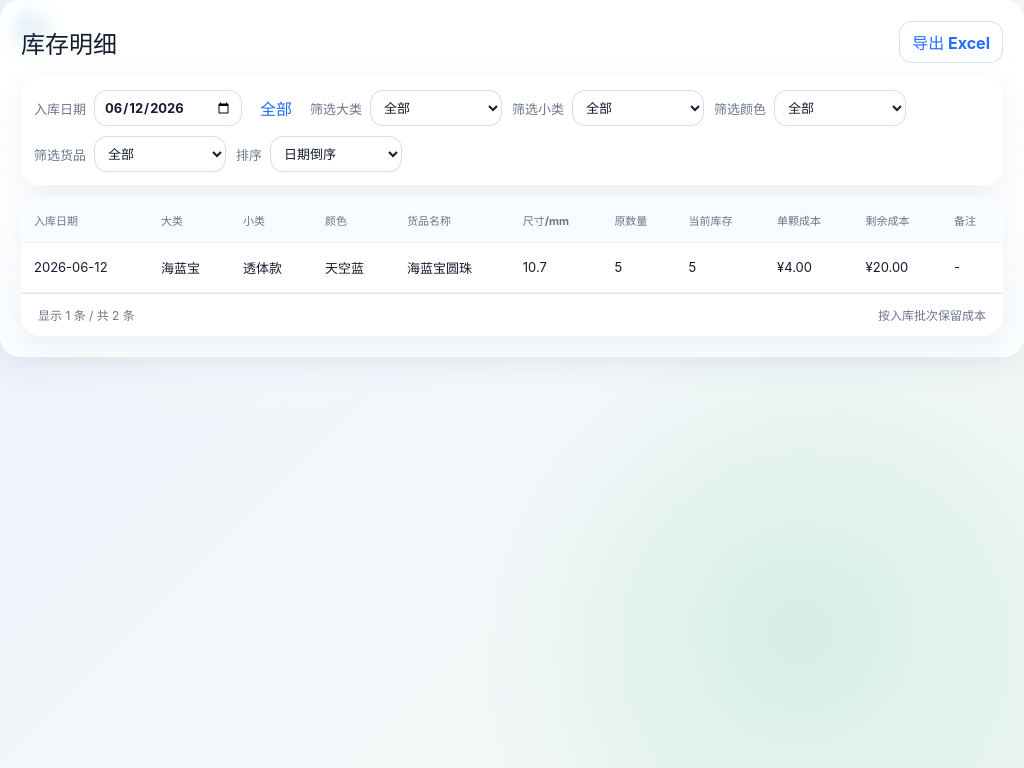
InventoryPage › filters stock rows by date and catalog fields
The image size is (1024, 768).
Expected: the table shows "海蓝宝圆珠", [407,260,472,276]
Expected: the table does not show "白水晶圆珠", [22,242,1002,292]
Type "2026-06-11" into the date field labelled "入库日期" at (168, 108), box [94,90,242,126]
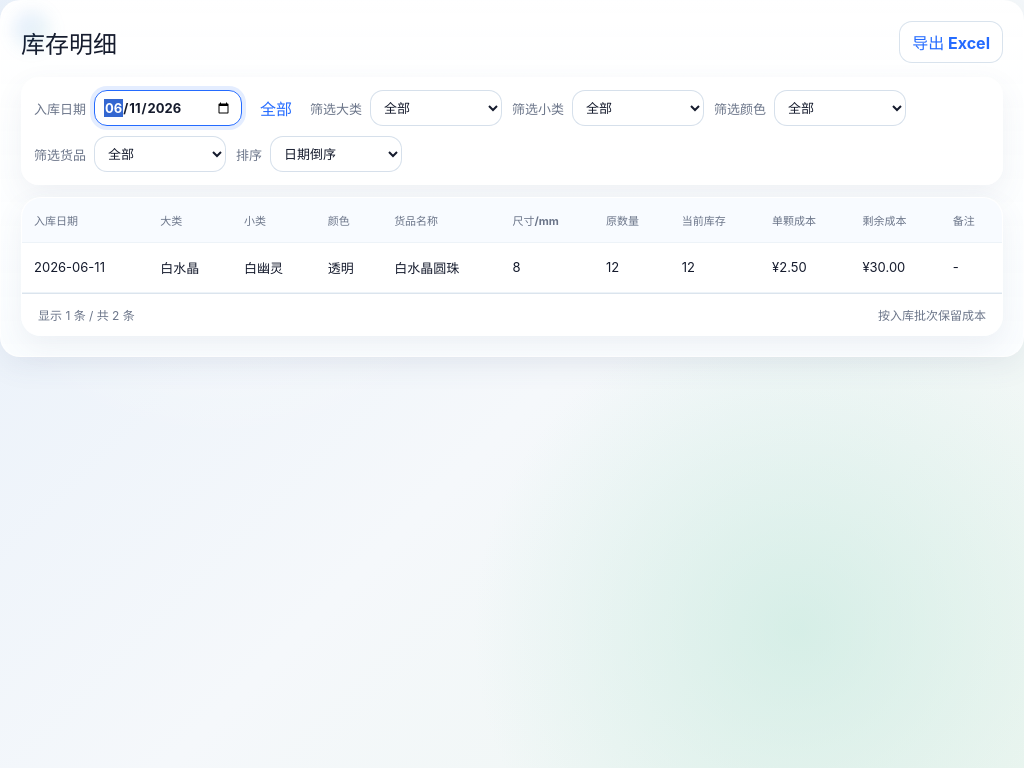
Expected: the table shows "白水晶圆珠", [394,260,459,276]
Expected: the table no longer shows "海蓝宝圆珠", [22,242,1002,292]
Clear the date field labelled "入库日期" at (168, 108), box [94,90,242,126]
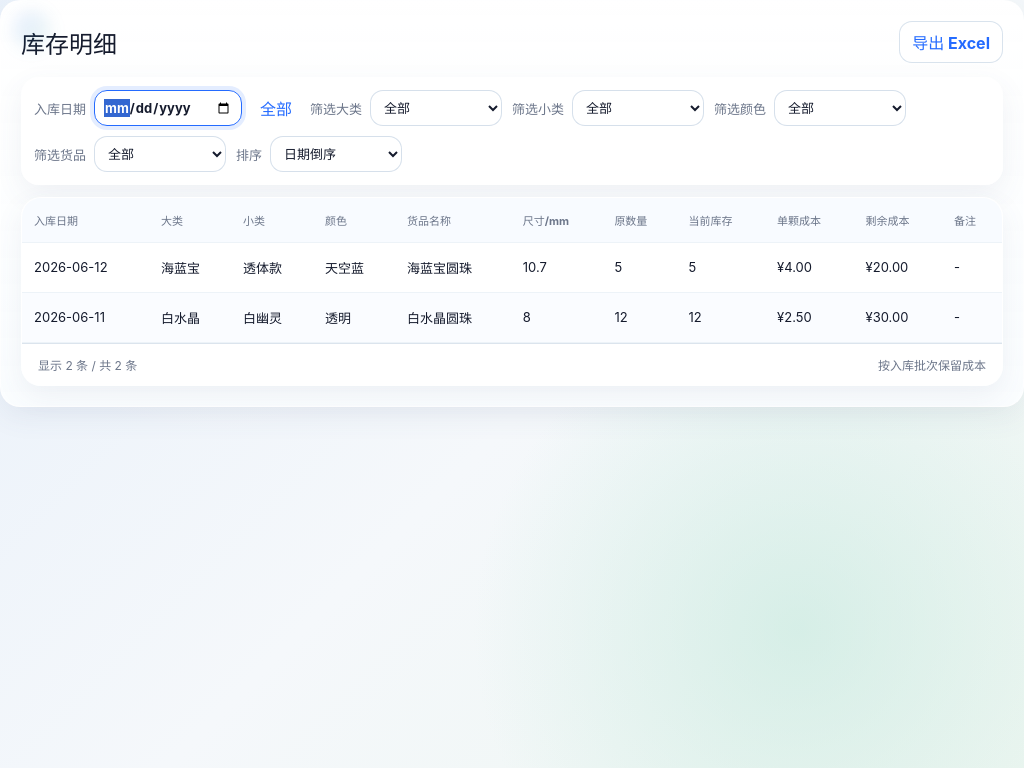
Select "海蓝宝" in the dropdown labelled "筛选大类" at (436, 108), box [370,90,502,126]
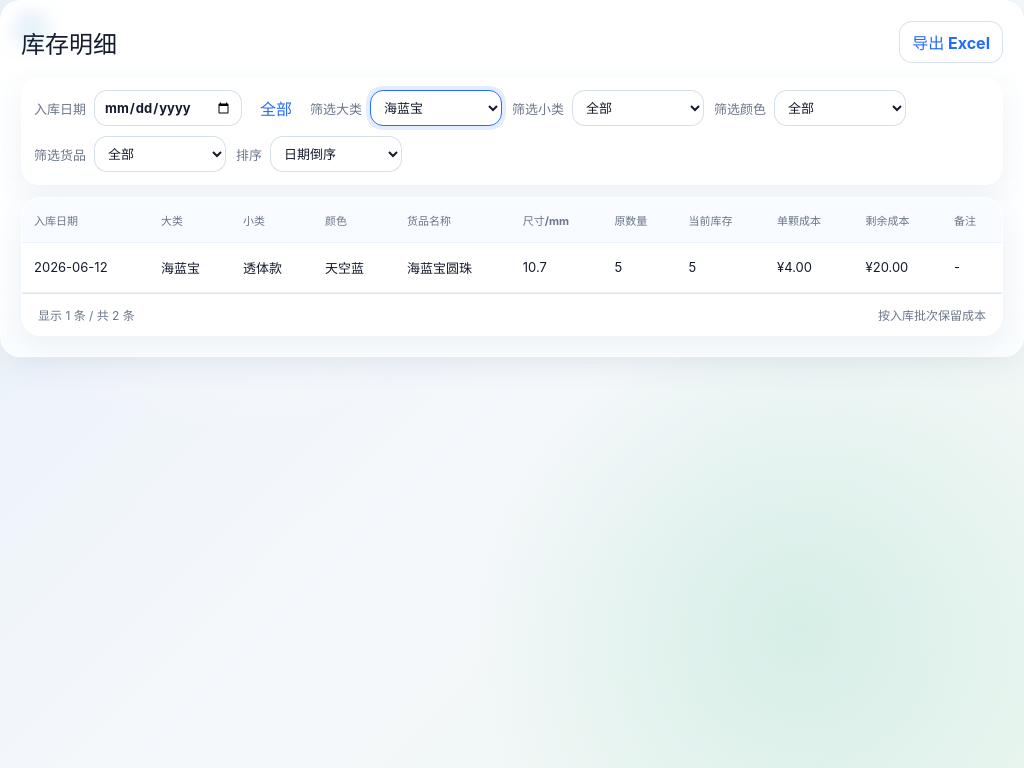
Expected: the table does not show "白水晶圆珠", [22,242,1002,292]
Expected: the table shows "海蓝宝圆珠", [407,260,472,276]
Select "全部" in the dropdown labelled "筛选大类" at (436, 108), box [370,90,502,126]
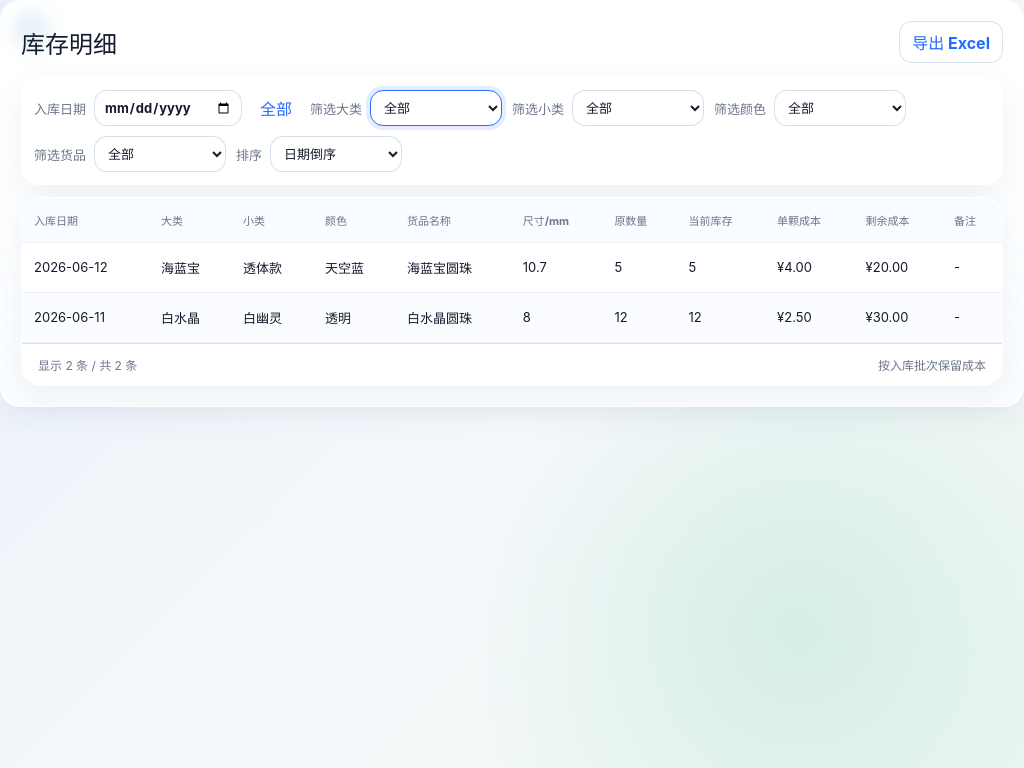
Select "透明" in the dropdown labelled "筛选颜色" at (840, 108), box [774,90,906,126]
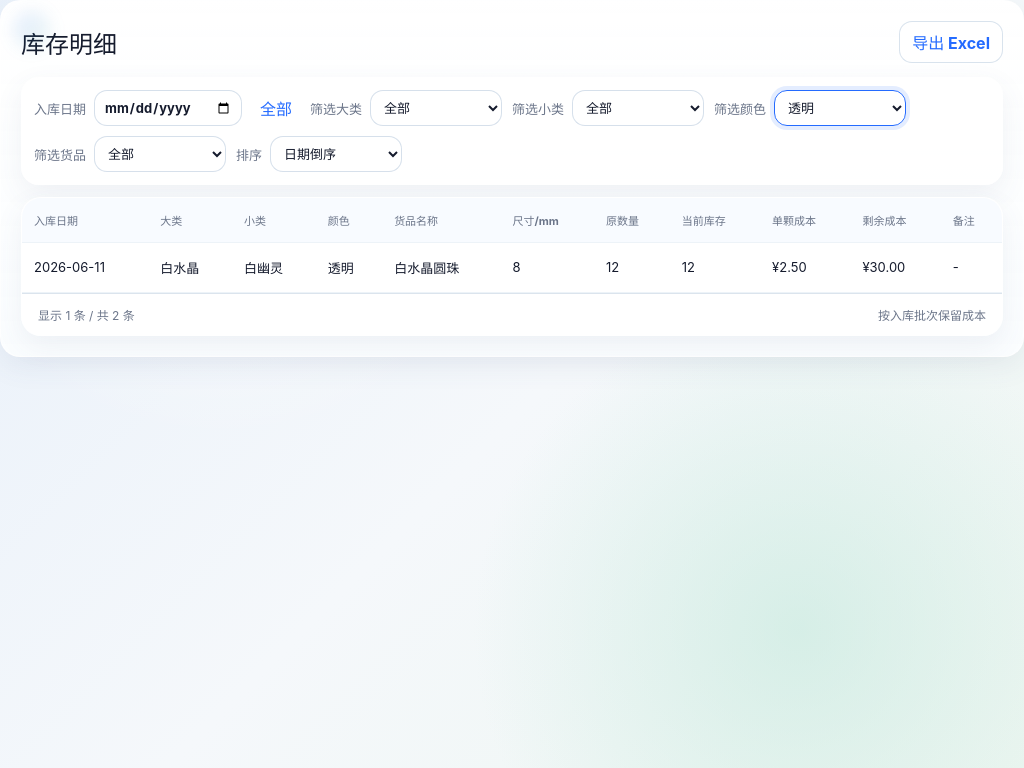
Expected: the table shows "白水晶圆珠", [394,260,459,276]
Expected: the table no longer shows "海蓝宝圆珠", [22,242,1002,292]
